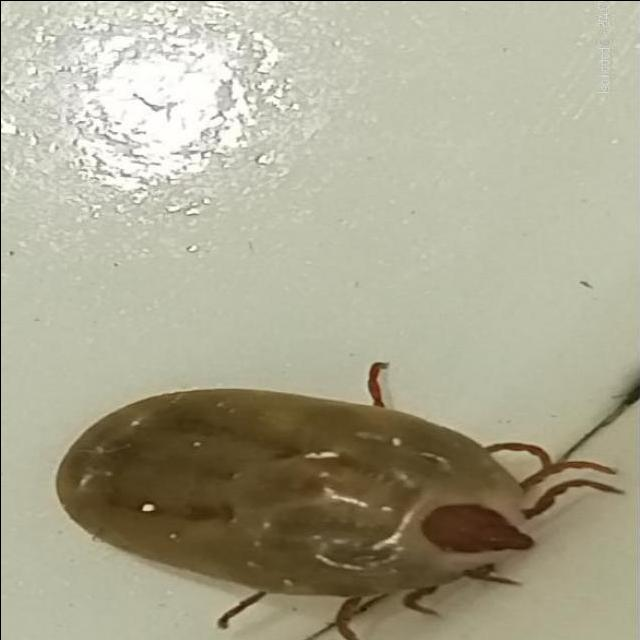Rhipicephalus Sanguineus-F-Fed: (56, 360, 628, 640)
